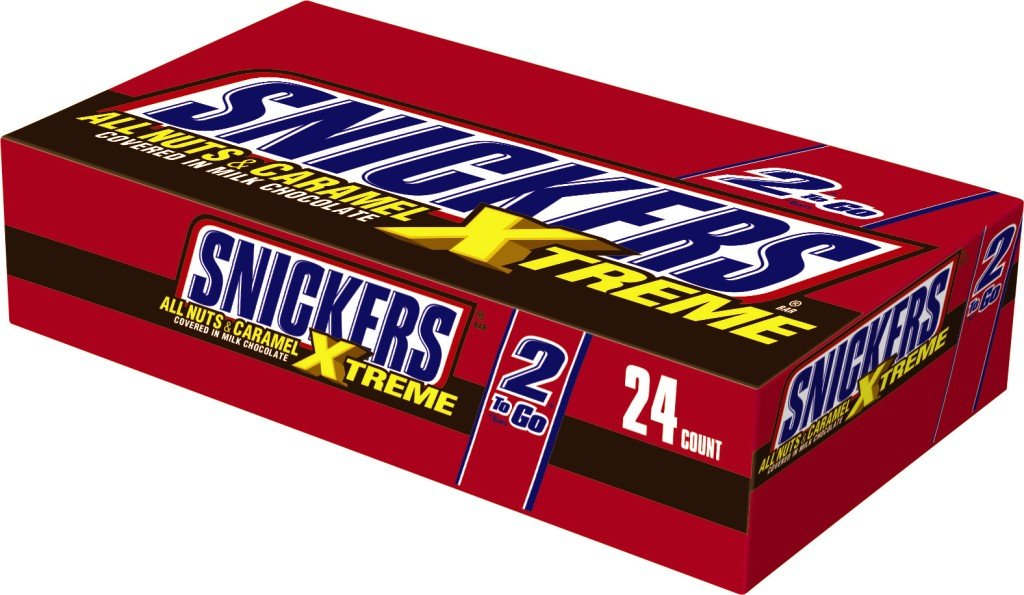snickers: (143, 79, 879, 289), (138, 82, 879, 289), (185, 224, 457, 380), (185, 228, 457, 380), (779, 267, 948, 441)
